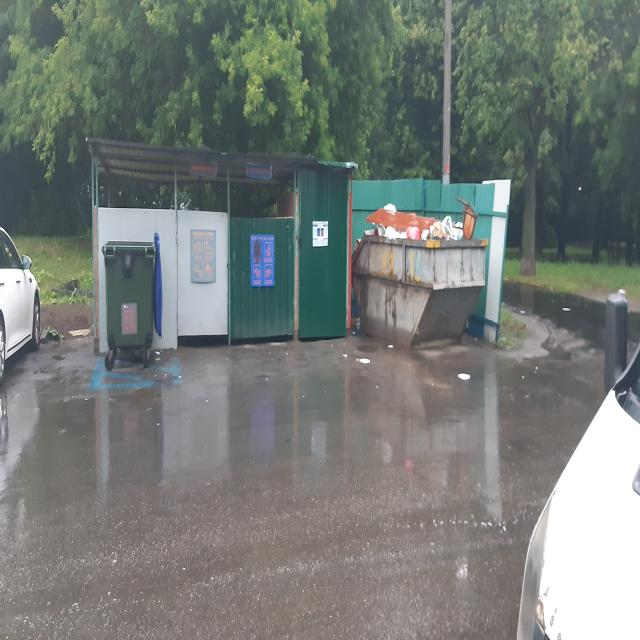bin: (351, 234, 489, 350), (103, 240, 155, 368)
plastic: (355, 194, 479, 247)
